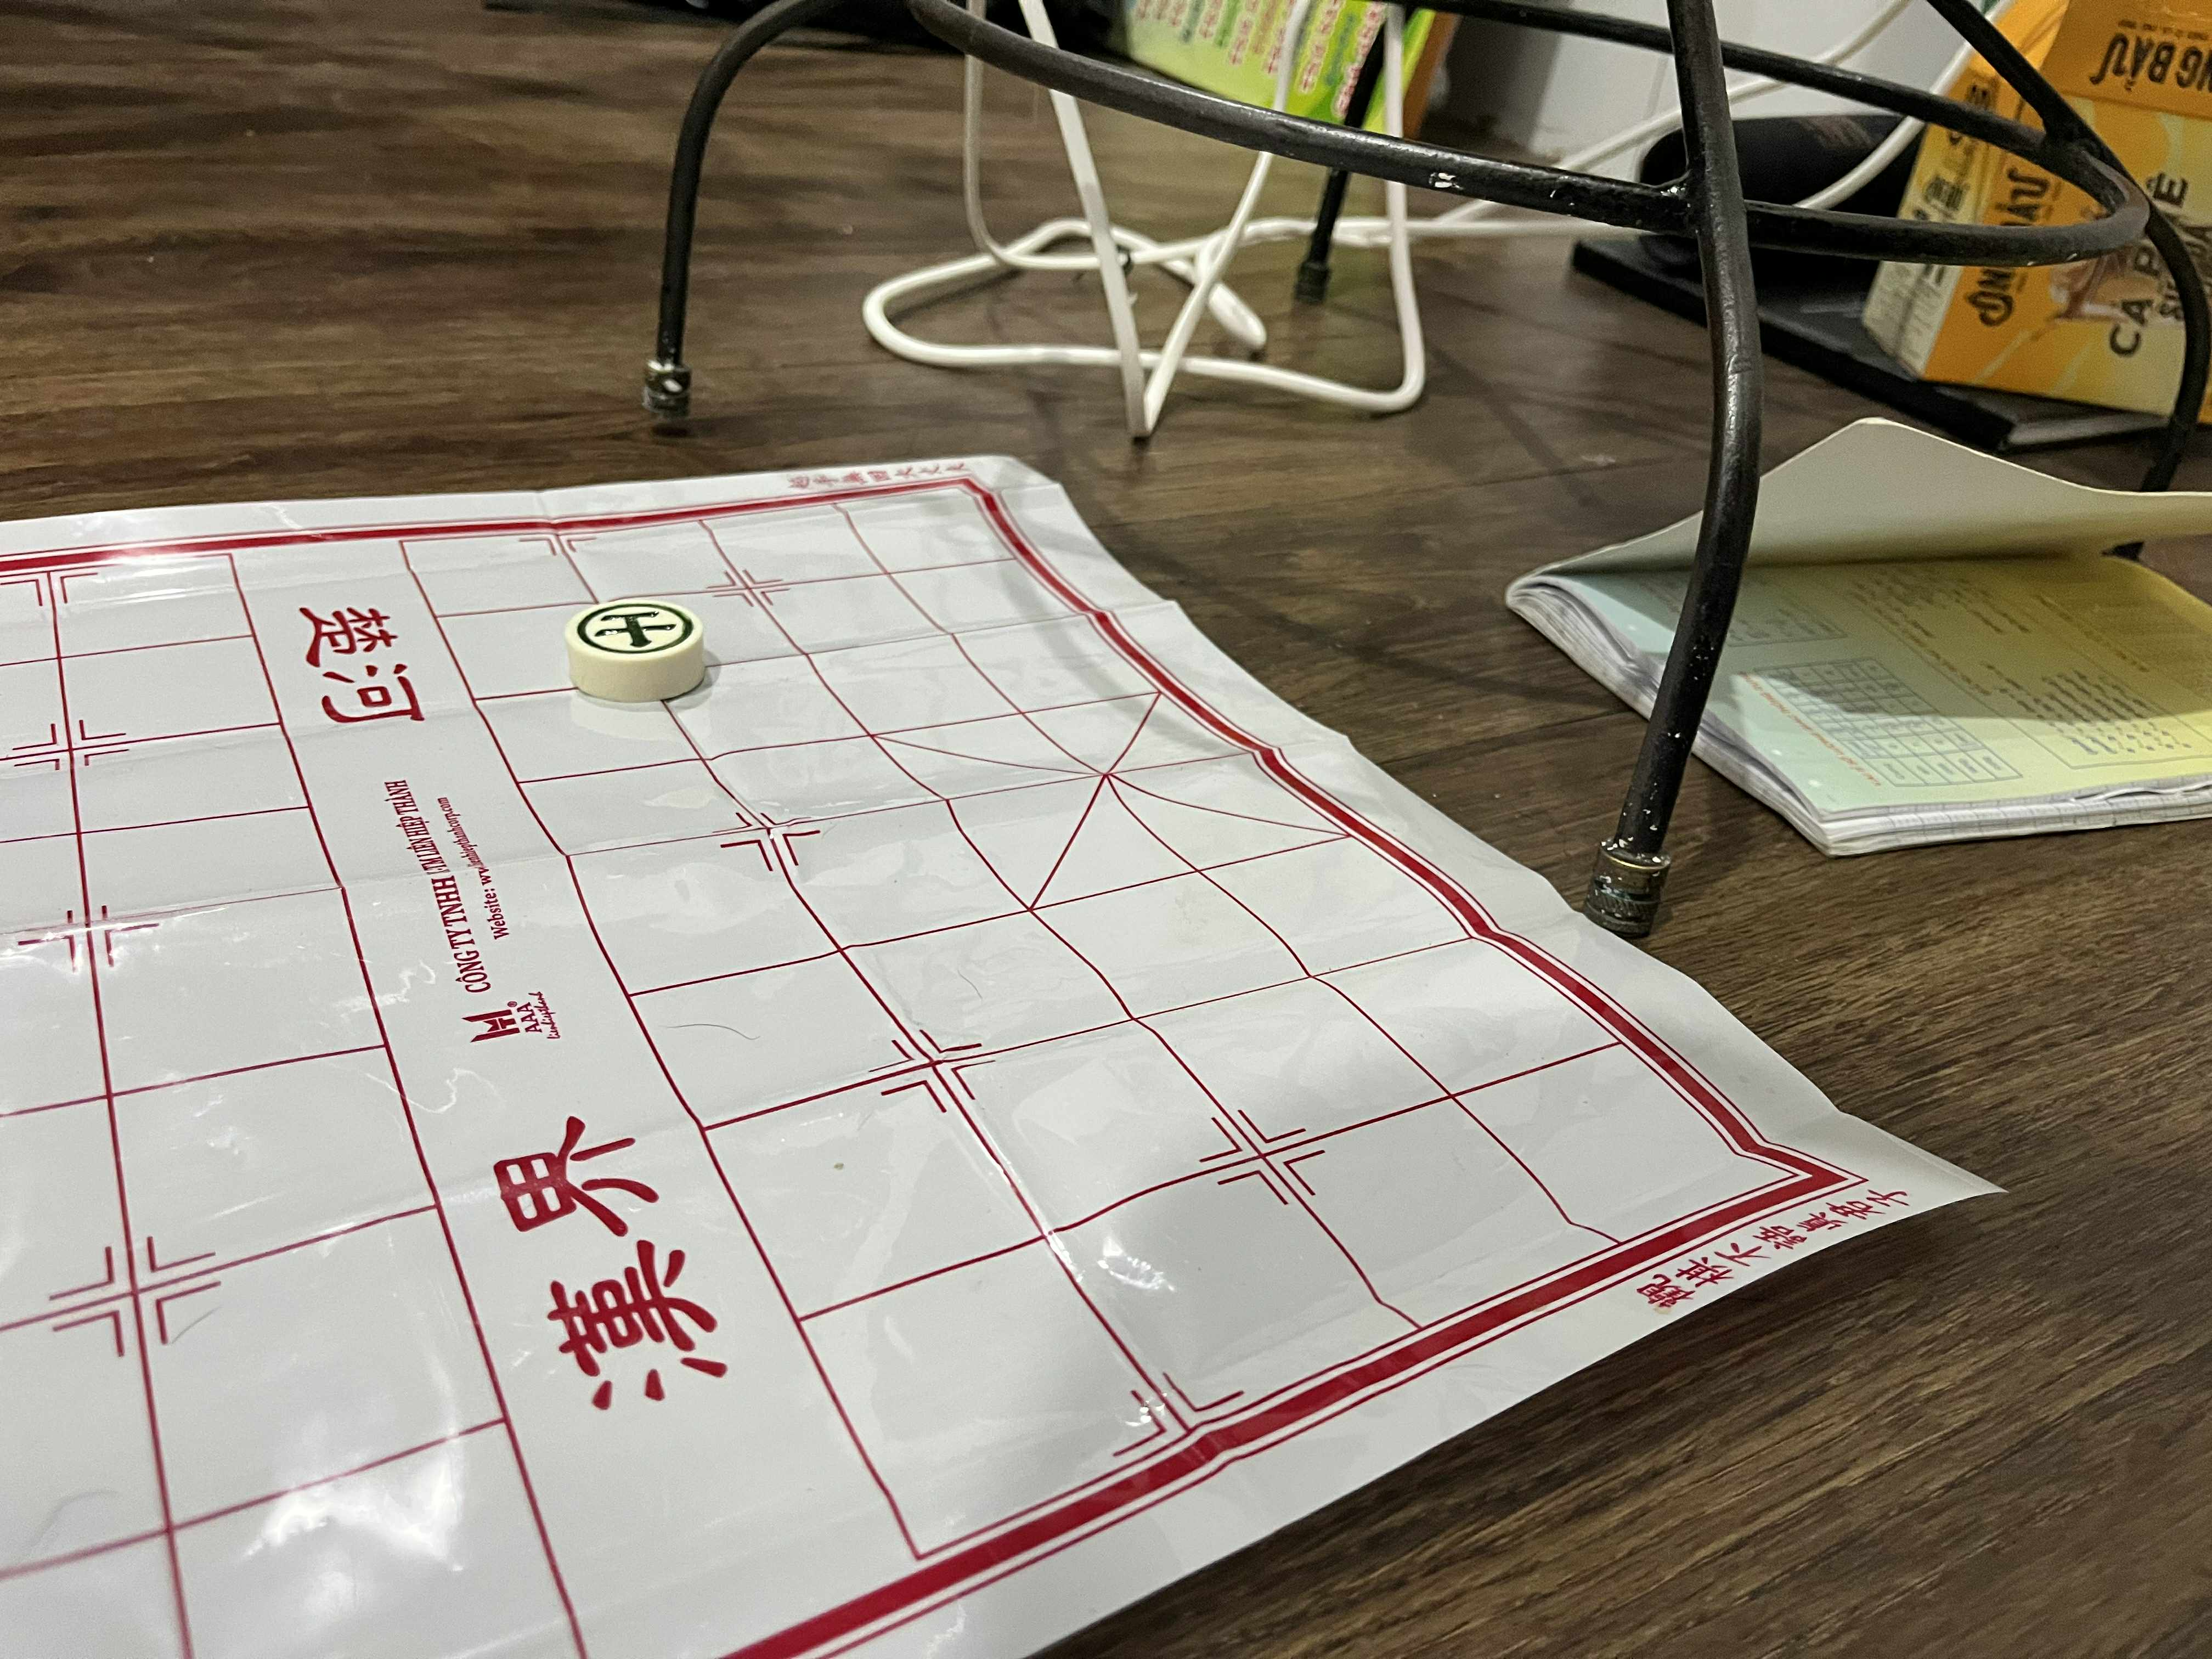black-advisor: (564, 596, 705, 664)
